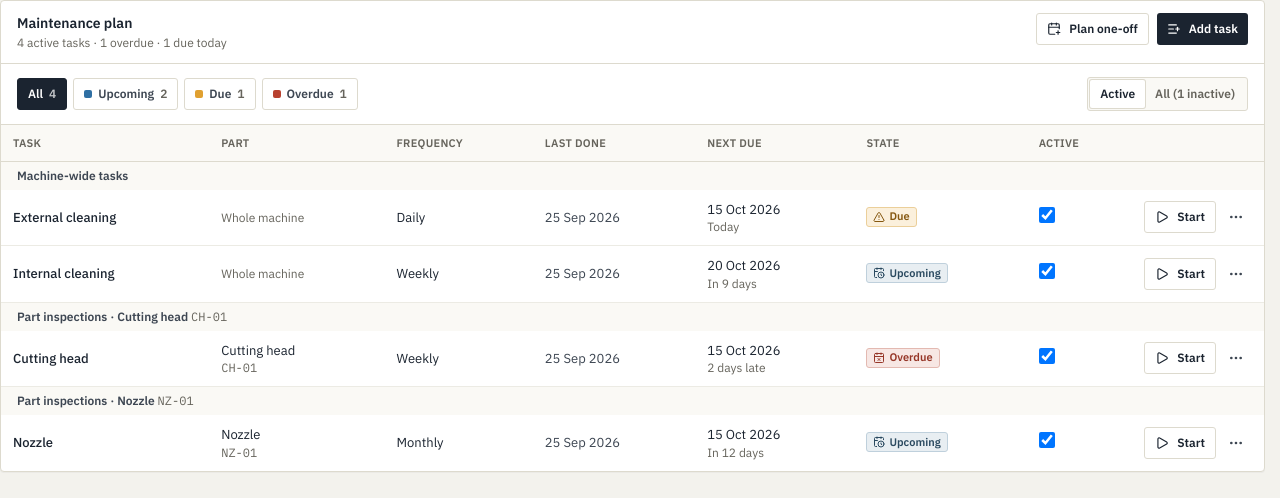
Scenario: Machine maintenance plan › lets administrators add, edit and deactivate tasks
Expected: the button "Add task" is shown, [1157, 13, 1248, 45]
Click the checkbox named "External cleaning active": (1047, 214) [1039, 206, 1055, 222]
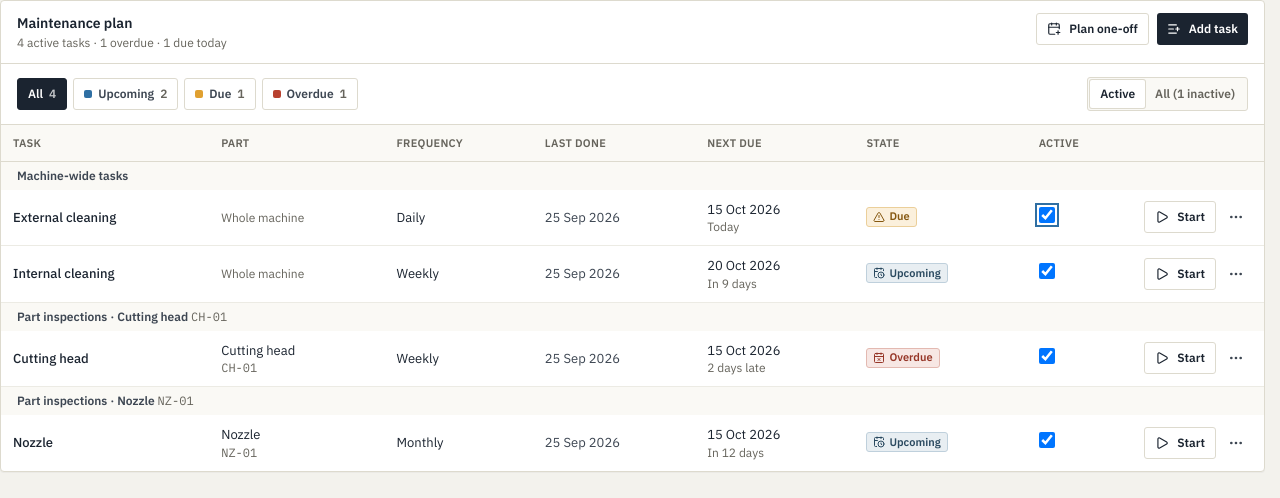
Click the button named "More actions for Cutting head": (1236, 358) [1220, 342, 1252, 374]
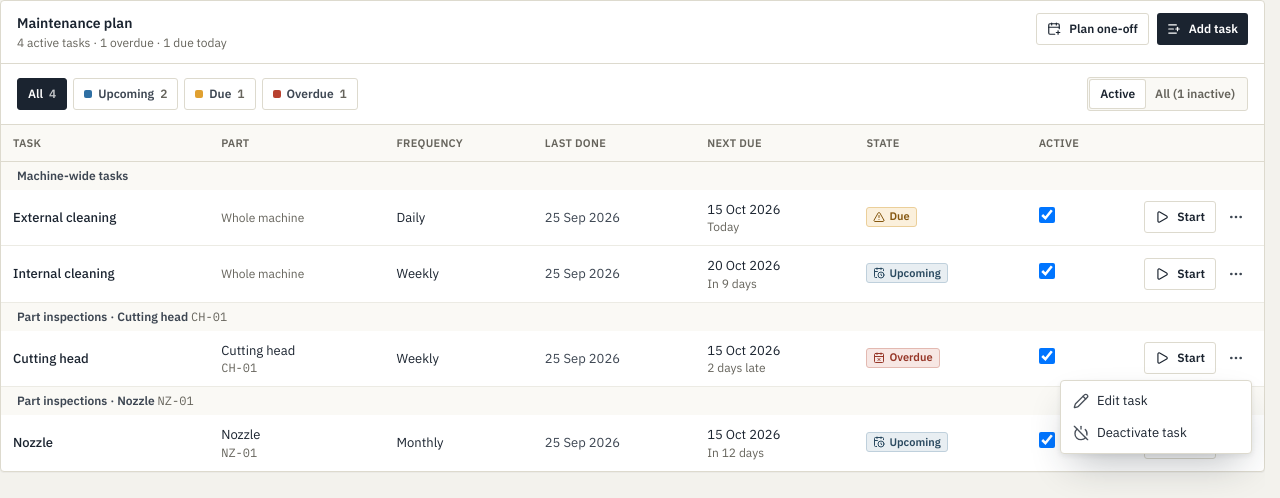
Now the menu item "Edit task" is shown, box [1073, 392, 1148, 409]
Now the menu item "Deactivate task" is shown, box [1073, 424, 1187, 441]
